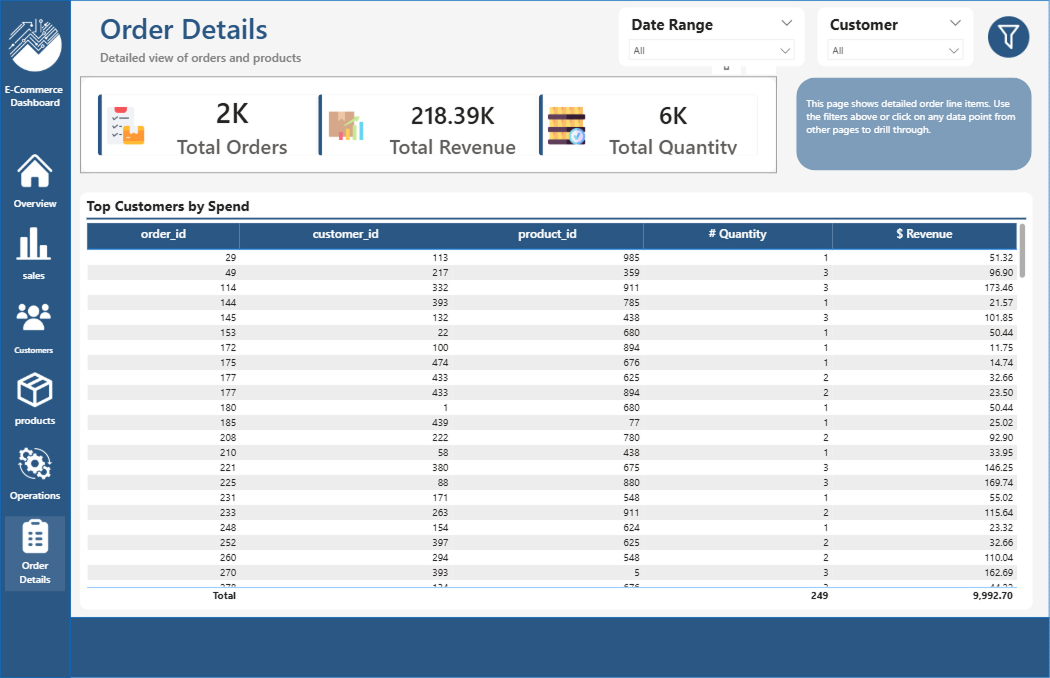

The dashboard page shown, as its layout file describes it:
{"tool":"powerbi","page":{"name":"Order Details","canvas":[1400,920],"ordinal":5},"visuals":[{"type":"shape","box":[94,0,1306,824],"z":0},{"type":"image","box":[22.5,492.4,46.7,55.8],"z":0,"group":"g3"},{"type":"image","box":[22.6,590.8,46.7,55.8],"z":0,"group":"g5"},{"type":"image","box":[19.6,688.6,54.1,52.4],"z":0,"group":"g6"},{"type":"textbox","box":[10.8,548.2,70,29.2],"z":1000,"group":"g3"},{"type":"textbox","box":[6.8,647.1,80,29.2],"z":1000,"group":"g5"},{"type":"textbox","box":[7,740.7,80,47.9],"z":1000,"group":"g6"},{"type":"shape","box":[94,824,1306,80],"z":1000},{"type":"shape","box":[0,0,94,904],"z":2000},{"type":"cardVisual","fields":{"Data":["_Measures.Total Orders","_Measures.$ Revenue","_Measures.# Quantity"]},"box":[106,102,930,130],"z":3000},{"type":"image","box":[12,24,70,74],"z":4000},{"type":"textbox","box":[128,6,518,72],"z":5000},{"type":"tableEx","title":"Top Customers by Spend","fields":{"Values":["orders.order_id","customers.customer_id","products.product_id","_Measures.# Quantity","_Measures.$ Revenue"]},"box":[106,256,1270,556],"z":6000},{"type":"textbox","box":[128,60,620,38],"z":7000},{"type":"image","box":[1313.3,21.7,63.3,55],"z":8000},{"type":"textbox","box":[0,104.3,93.5,48.7],"z":9000},{"type":"group","id":"g1","title":"Group 1","box":[11.7,200,70,85],"z":10000},{"type":"group","id":"g2","title":"Group 2","box":[10,297.5,70,85],"z":11000},{"type":"group","id":"g3","title":"Group 4","box":[10.8,492.4,70,85],"z":12000},{"type":"group","id":"g4","title":"Group 2","box":[9.2,394.9,70,85],"z":13000},{"type":"slicer","fields":{"Values":["DateTable.Year","DateTable.Month"]},"box":[825,10,248.3,78.3],"z":14000},{"type":"slicer","fields":{"Values":["customers.Customer Name"]},"box":[1090,10,208.3,78.3],"z":15000},{"type":"shape","box":[1062,104,314,124],"z":16000},{"type":"textbox","box":[1070,124,300,84],"z":17000},{"type":"group","id":"g5","title":"Group 4","box":[6.8,590.8,80,85.4],"z":18000},{"type":"group","id":"g6","title":"Group 4","box":[7,688.6,80,100],"z":19000},{"type":"image","box":[23.4,200,46.7,55.8],"z":20000,"group":"g1"},{"type":"textbox","box":[11.7,255.8,70,29.2],"z":21000,"group":"g1"},{"type":"image","box":[21.7,297.5,46.7,55.8],"z":22000,"group":"g2"},{"type":"image","box":[20.9,394.9,46.7,55.8],"z":22000,"group":"g4"},{"type":"textbox","box":[10,353.3,70,29.2],"z":23000,"group":"g2"},{"type":"textbox","box":[9.2,450.7,70,29.2],"z":23000,"group":"g4"}]}

Visuals, with their boxes on the page's 1400x920 design canvas (x1, y1, x2, y2). These are canvas units, not pixel positions in the 1050x678 screenshot, which may show the page scaled, cropped or inside an application window:
shape: (left=94, top=0, right=1400, bottom=824)
image: (left=22, top=492, right=69, bottom=548)
image: (left=23, top=591, right=69, bottom=647)
image: (left=20, top=689, right=74, bottom=741)
textbox: (left=11, top=548, right=81, bottom=577)
textbox: (left=7, top=647, right=87, bottom=676)
textbox: (left=7, top=741, right=87, bottom=789)
shape: (left=94, top=824, right=1400, bottom=904)
shape: (left=0, top=0, right=94, bottom=904)
cardVisual - _Measures.Total Orders x _Measures.$ Revenue: (left=106, top=102, right=1036, bottom=232)
image: (left=12, top=24, right=82, bottom=98)
textbox: (left=128, top=6, right=646, bottom=78)
"Top Customers by Spend" tableEx: (left=106, top=256, right=1376, bottom=812)
textbox: (left=128, top=60, right=748, bottom=98)
image: (left=1313, top=22, right=1377, bottom=77)
textbox: (left=0, top=104, right=94, bottom=153)
"Group 1" group: (left=12, top=200, right=82, bottom=285)
"Group 2" group: (left=10, top=298, right=80, bottom=382)
"Group 4" group: (left=11, top=492, right=81, bottom=577)
"Group 2" group: (left=9, top=395, right=79, bottom=480)
slicer - DateTable.Year x DateTable.Month: (left=825, top=10, right=1073, bottom=88)
slicer - customers.Customer Name: (left=1090, top=10, right=1298, bottom=88)
shape: (left=1062, top=104, right=1376, bottom=228)
textbox: (left=1070, top=124, right=1370, bottom=208)
"Group 4" group: (left=7, top=591, right=87, bottom=676)
"Group 4" group: (left=7, top=689, right=87, bottom=789)
image: (left=23, top=200, right=70, bottom=256)
textbox: (left=12, top=256, right=82, bottom=285)
image: (left=22, top=298, right=68, bottom=353)
image: (left=21, top=395, right=68, bottom=451)
textbox: (left=10, top=353, right=80, bottom=382)
textbox: (left=9, top=451, right=79, bottom=480)
